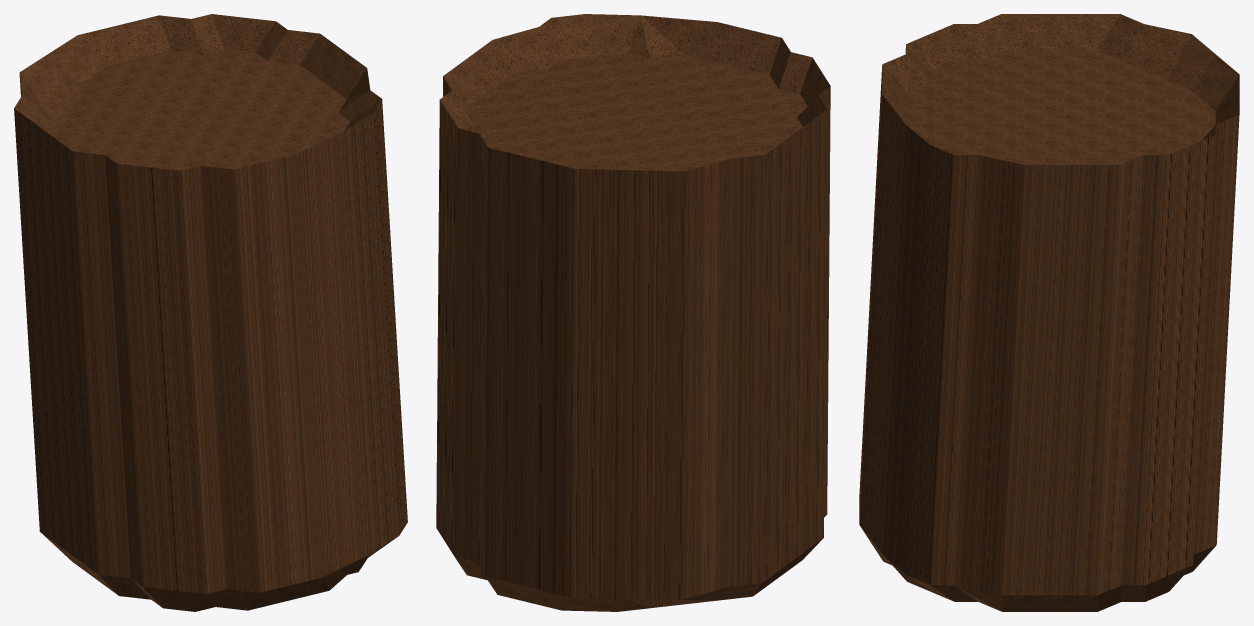
The model's file is lake_collider.glb.
3 views of the same model, side by side, from view 1: azimuth 30°, elevation 25°; view 2: azimuth 150°, elevation 25°; view 3: azimuth 270°, elevation 25° (orthographic). The views are drawn at different scales.
Visible parts, largest first — view 1: ground.001; view 2: ground.001; view 3: ground.001.
Part boxes in pixels (x1,y1,x2,y2): ground.001: [14, 14, 407, 611]; ground.001: [436, 14, 830, 611]; ground.001: [859, 14, 1239, 611].
Bounding box in the file's own units: 46.21 × 61.29 × 46.93.
1 material, 1 textured.
